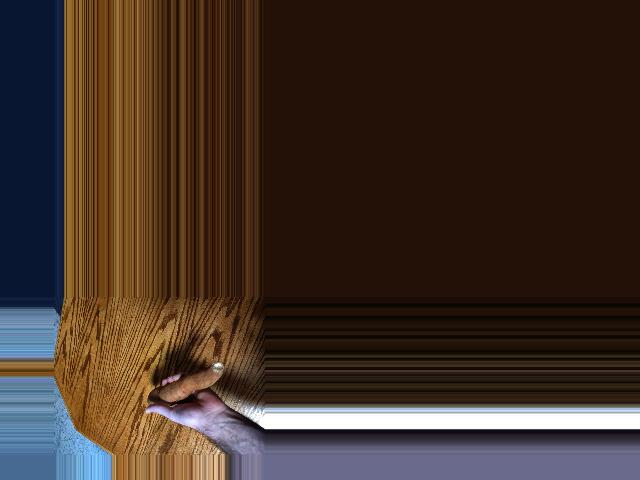sweet_potato: (151, 362, 227, 404)
